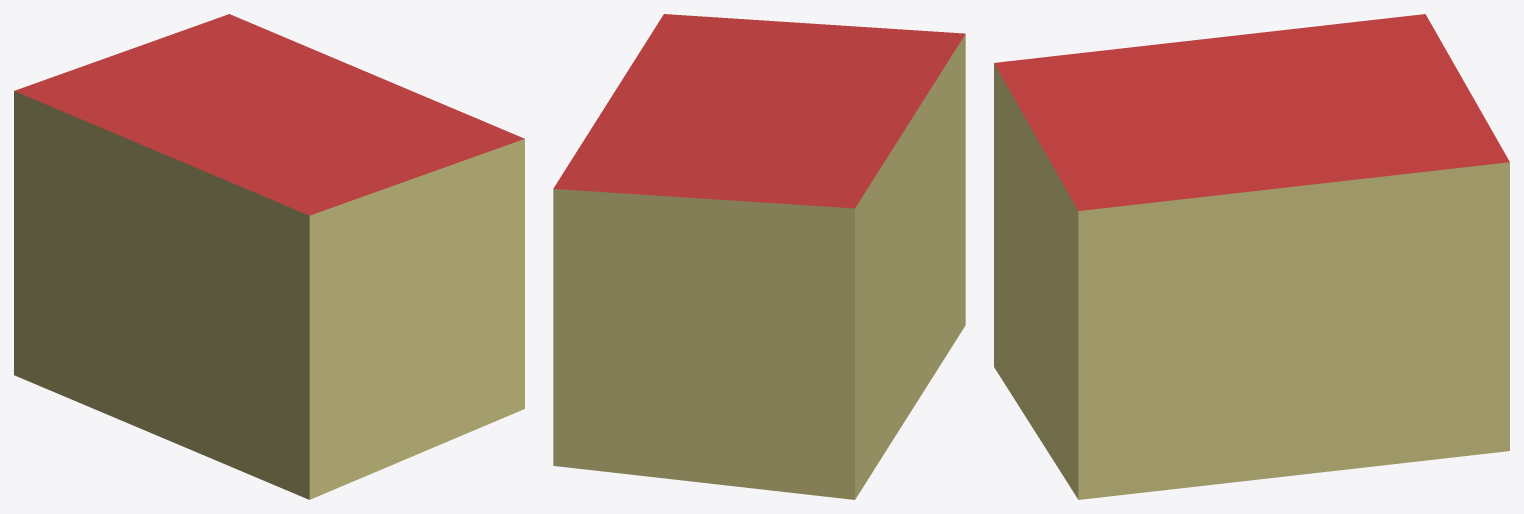
The picture shows the model from 3 angles, left to right: view 1: azimuth 30°, elevation 25°; view 2: azimuth 150°, elevation 25°; view 3: azimuth 270°, elevation 25°; orthographic projection. The views are drawn at different scales.
Size of the model in its own units: 13.86 by 16.61 by 10.8.
